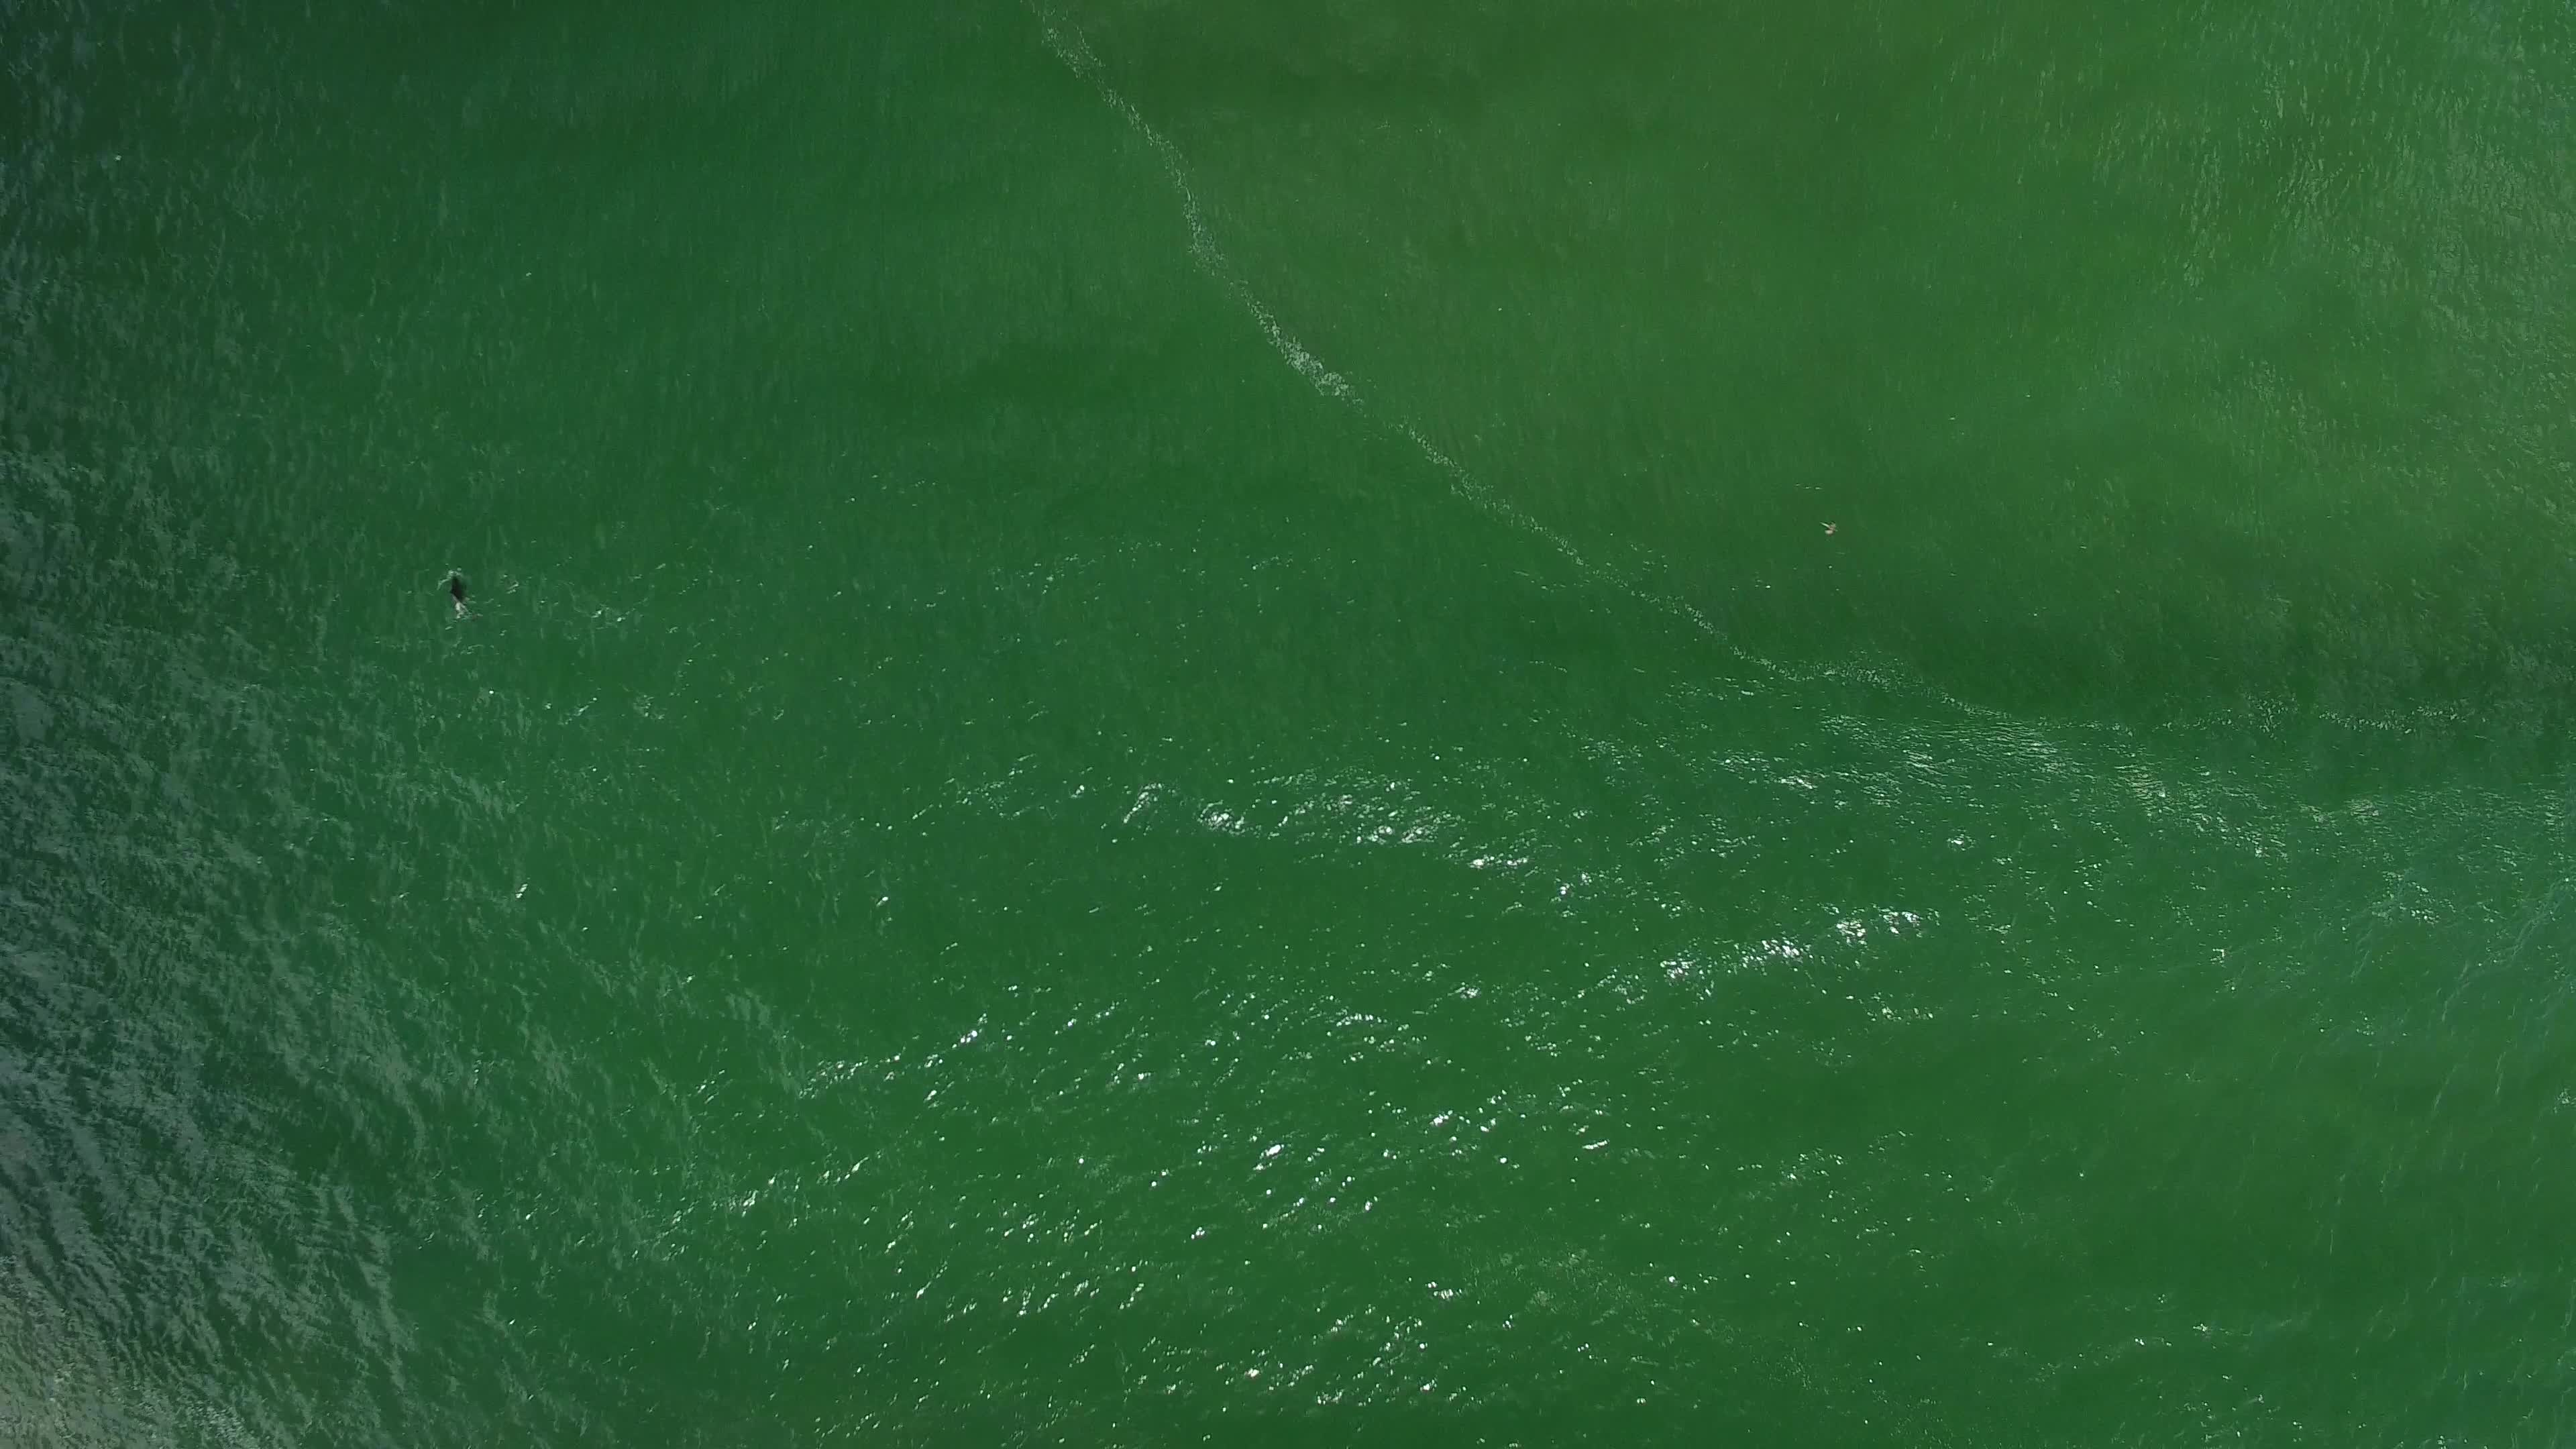dolphin: (425, 556, 487, 639)
